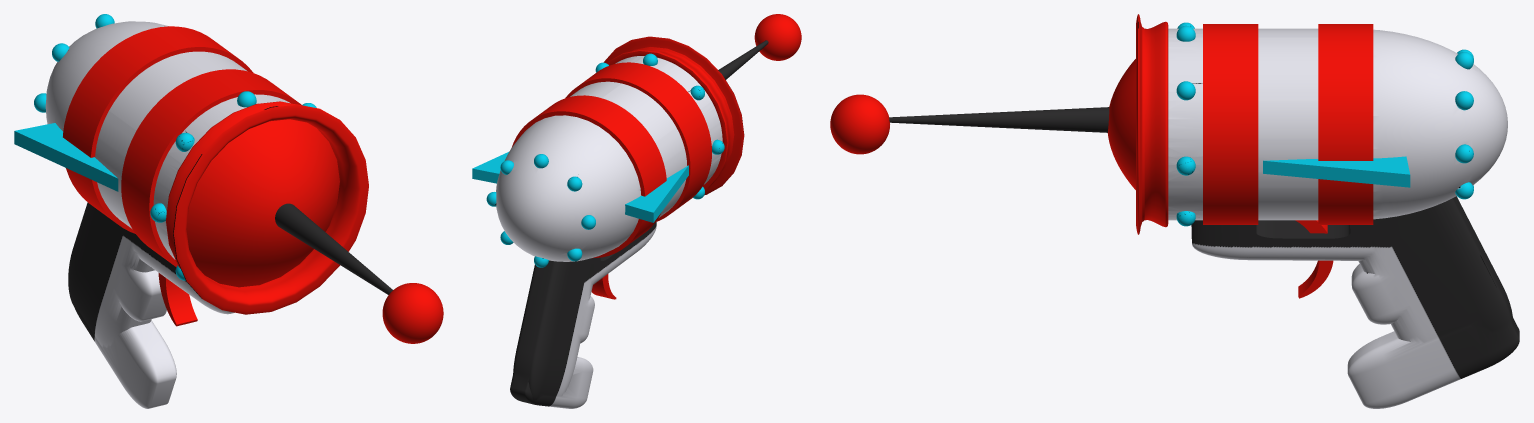
The model's file is Ray Gun.fbx.
3 renders of one model, left to right at view 1: azimuth 30°, elevation 25°; view 2: azimuth 150°, elevation 25°; view 3: azimuth 270°, elevation 25°, orthographic. The views are drawn at different scales.
Visible parts, largest first — view 1: cylinder.001; view 2: cylinder.001; view 3: cylinder.001.
Boxes of the visible parts, x1,y1,x2,y2 form: cylinder.001: [14, 14, 443, 408]; cylinder.001: [472, 14, 801, 408]; cylinder.001: [830, 14, 1519, 408].
Bounding box in the file's own units: 719 × 1128 × 1857.
